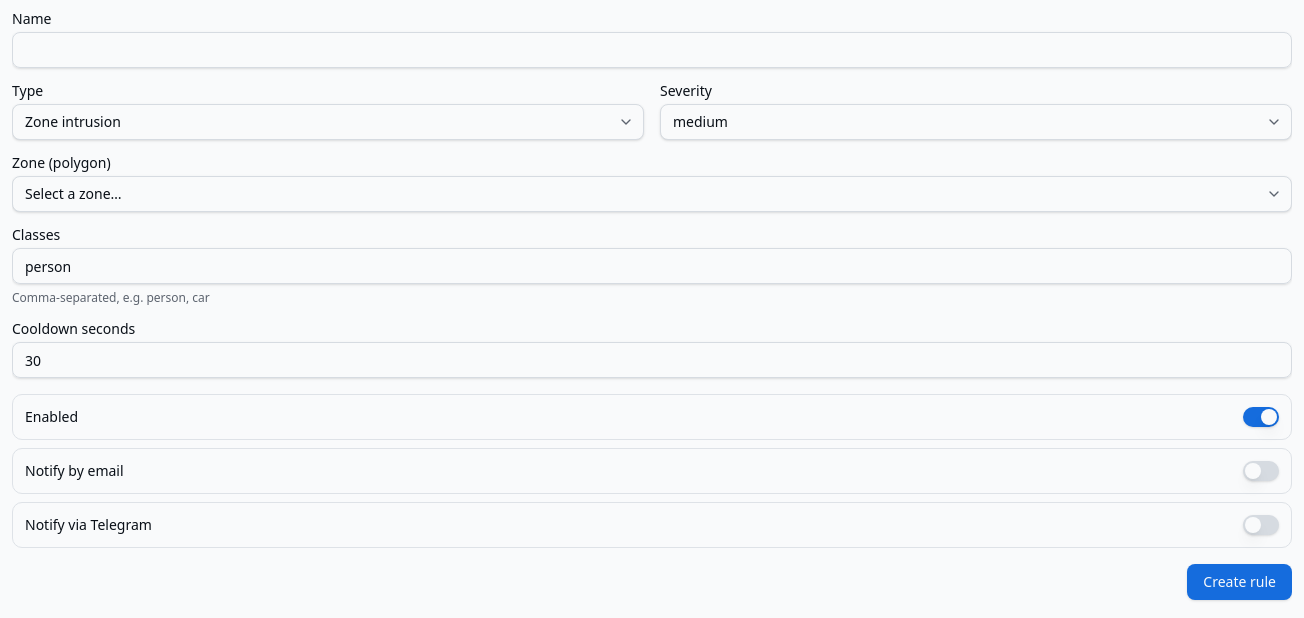
Scenario: RuleForm › missing_ppe shows grace seconds
This screenshot has width=1304, height=618.
Step 1. Select "Missing PPE" in the dropdown labelled "Type" → (328, 122), box [12,104,644,140]
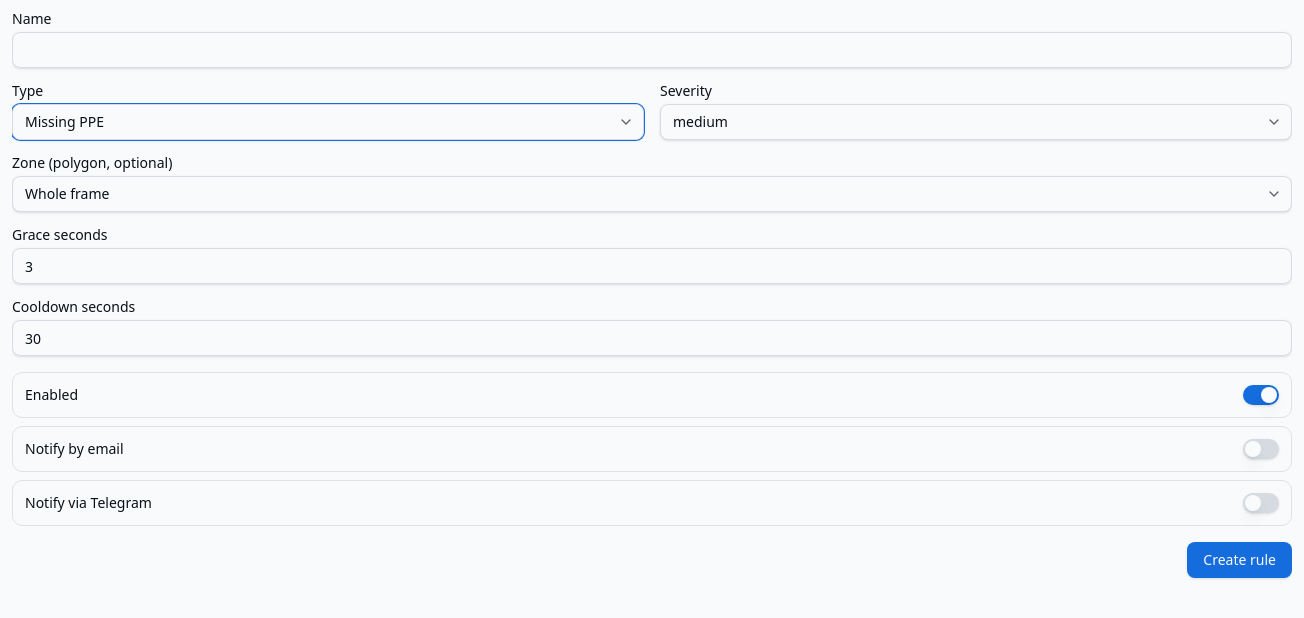
Check: the dropdown labelled "Zone (polygon, optional)" is shown, box [12,176,1292,212]
Check: the number field labelled "Grace seconds" is shown, box [12,248,1292,284]
